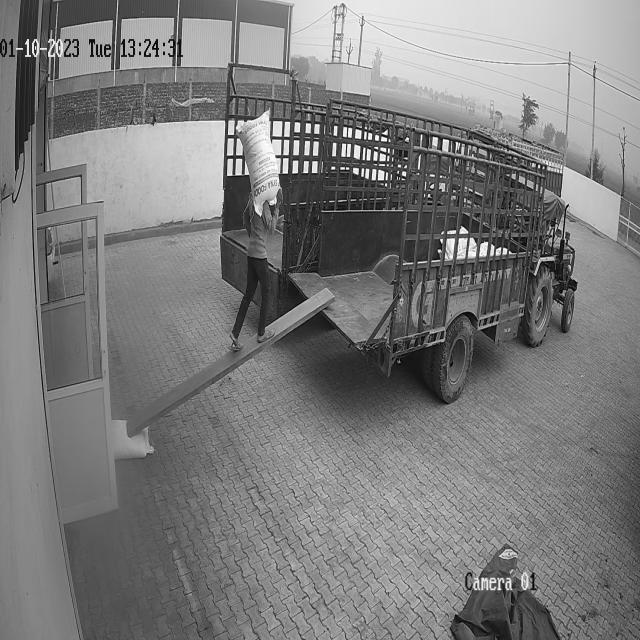sack: (236, 108, 279, 217), (112, 418, 151, 460)
